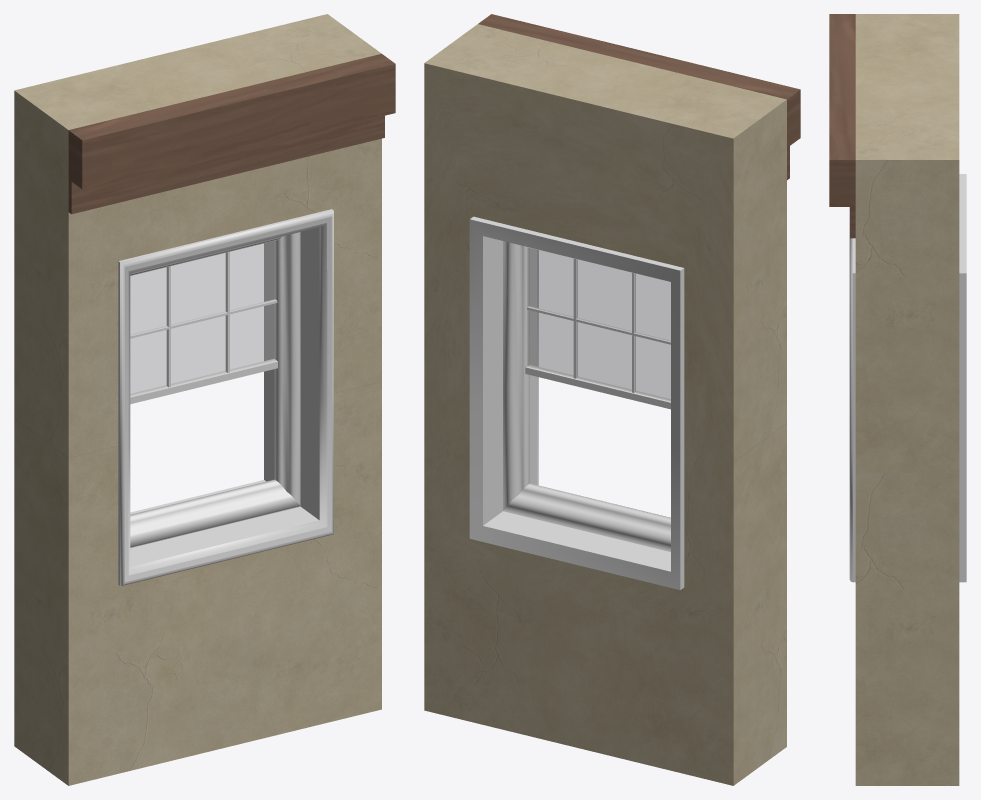
The model's file is WindowWall.obj.
3 views of the same model, side by side, from view 1: azimuth 30°, elevation 25°; view 2: azimuth 150°, elevation 25°; view 3: azimuth 270°, elevation 25° (orthographic). The views are drawn at different scales.
Visible parts, largest first — view 1: Window_Wall_Tavern_Interior_Atlas, Window_Wall_Window, Window_Wall_Glass; view 2: Window_Wall_Tavern_Interior_Atlas, Window_Wall_Window, Window_Wall_Glass; view 3: Window_Wall_Tavern_Interior_Atlas, Window_Wall_Window.
Part boxes in pixels (box(x1,y1,x2,y2)): Window_Wall_Tavern_Interior_Atlas: box(14, 14, 395, 785); Window_Wall_Window: box(118, 209, 333, 585); Window_Wall_Glass: box(130, 240, 276, 395); Window_Wall_Tavern_Interior_Atlas: box(424, 14, 800, 785); Window_Wall_Window: box(469, 216, 684, 589); Window_Wall_Glass: box(527, 247, 670, 401); Window_Wall_Tavern_Interior_Atlas: box(829, 14, 959, 785); Window_Wall_Window: box(849, 174, 966, 582).
Bounding box in the file's own units: 2 × 4 × 0.7953.
3 materials, 1 textured.
